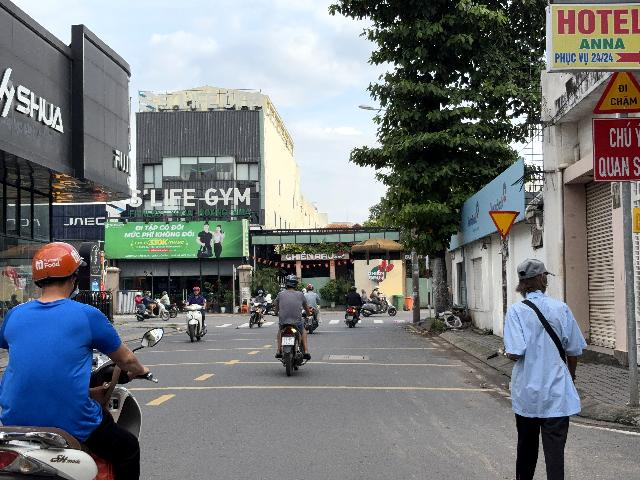giao-nhau-voi-duong-uu-tien: (488, 210, 520, 239)
